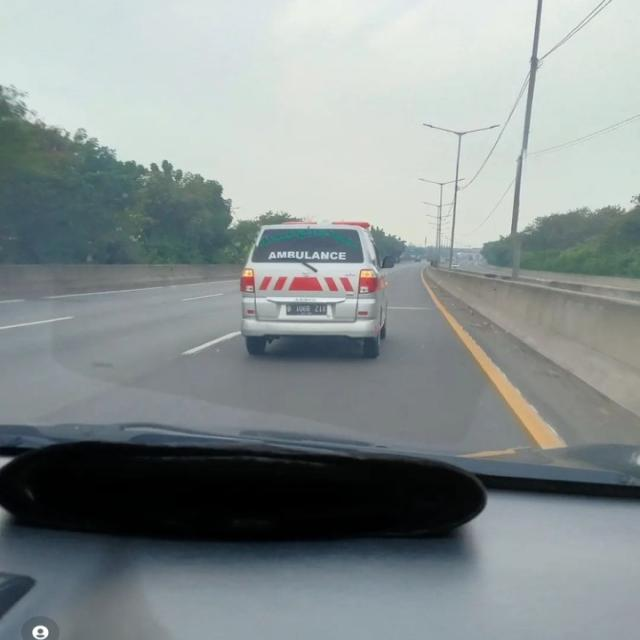emergency-vehicle: (231, 216, 399, 360)
